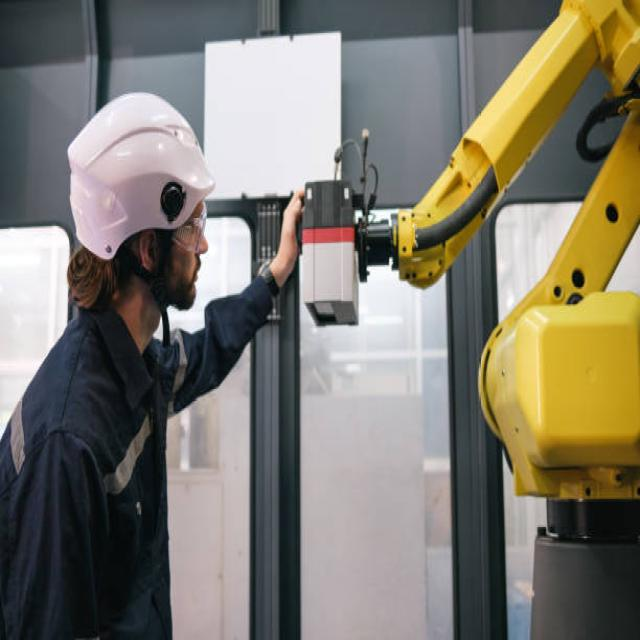Robotic-arm: (384, 0, 640, 529)
